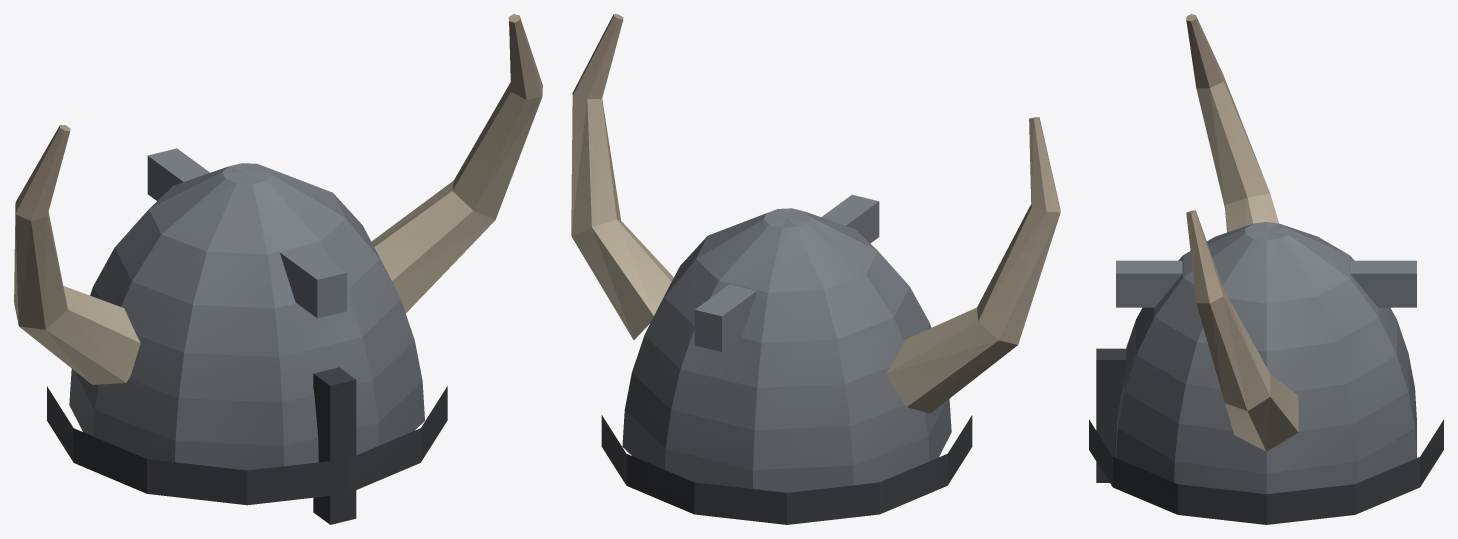
Rendered from gear_helm_horned.glb.
3 renders of one model, left to right at view 1: azimuth 30°, elevation 25°; view 2: azimuth 150°, elevation 25°; view 3: azimuth 270°, elevation 25°, orthographic. The views are drawn at different scales.
Visible parts, largest first — view 1: gear_helm_horned_solid; view 2: gear_helm_horned_solid; view 3: gear_helm_horned_solid.
Boxes of the visible parts, left/top/right/bottom form: gear_helm_horned_solid: left=14, top=14, right=542, bottom=524; gear_helm_horned_solid: left=571, top=14, right=1060, bottom=524; gear_helm_horned_solid: left=1089, top=14, right=1443, bottom=524.
Size of the model in its own units: 1.43 by 1.07 by 0.9409.
